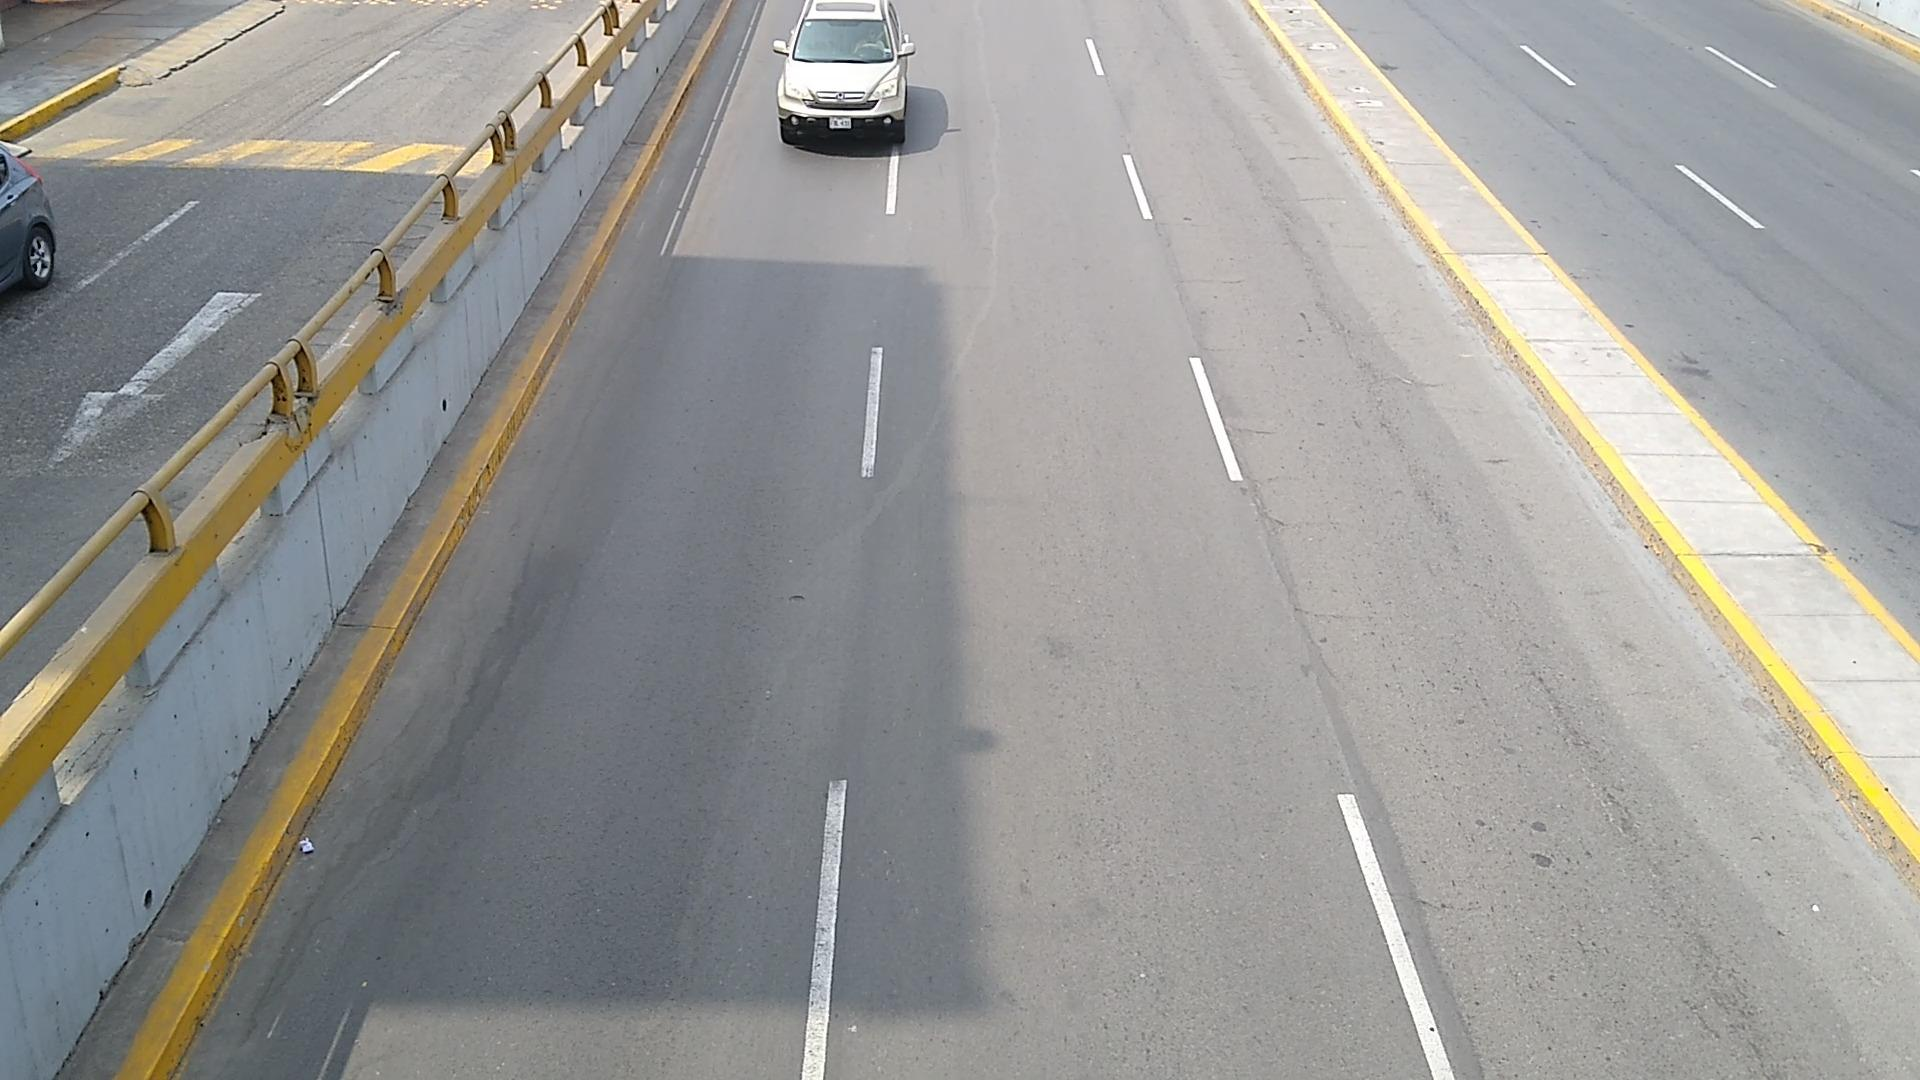car: (769, 0, 915, 146), (0, 142, 57, 287)
